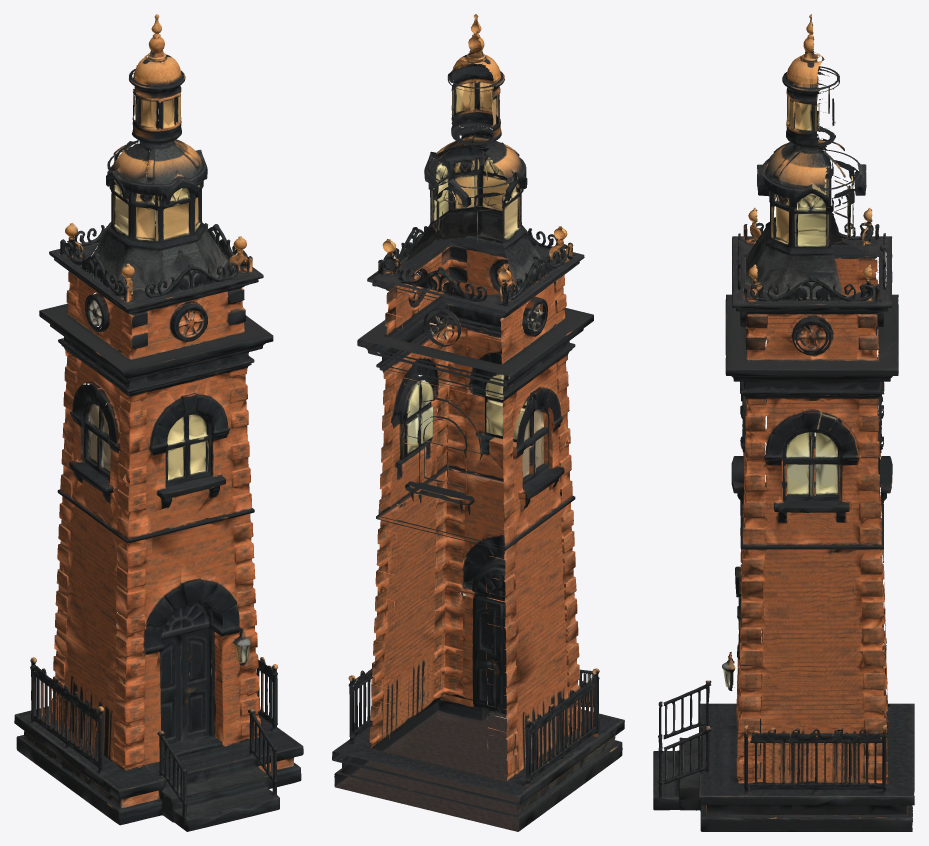
Rendered from lamp_tower.glb.
3 views of the same model, side by side, from view 1: azimuth 30°, elevation 25°; view 2: azimuth 150°, elevation 25°; view 3: azimuth 270°, elevation 25° (orthographic). The views are drawn at different scales.
Bounding box in the file's own units: 0.4912 × 1.9 × 0.5831.
Materials: 1 (1 with a texture image).
